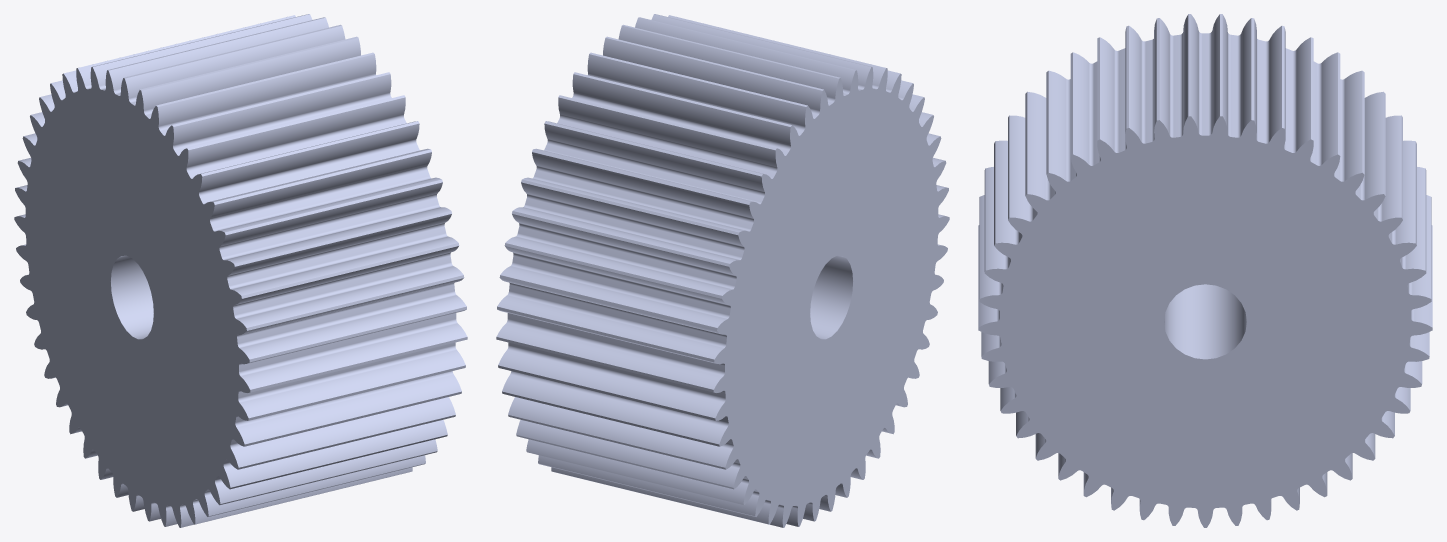
The model's file is spur_gear_3.glb.
3 views of the same model, side by side, from view 1: azimuth 30°, elevation 25°; view 2: azimuth 150°, elevation 25°; view 3: azimuth 270°, elevation 25° (orthographic). The views are drawn at different scales.
Parts seen in each view (by area): view 1: spur_gear_3; view 2: spur_gear_3; view 3: spur_gear_3.
Part boxes in pixels (x1=…): spur_gear_3: x1=14, y1=14, x2=467, y2=527; spur_gear_3: x1=496, y1=14, x2=949, y2=527; spur_gear_3: x1=978, y1=14, x2=1432, y2=527.
Bounding box in the file's own units: 0.0875 × 0.1643 × 0.1644.
